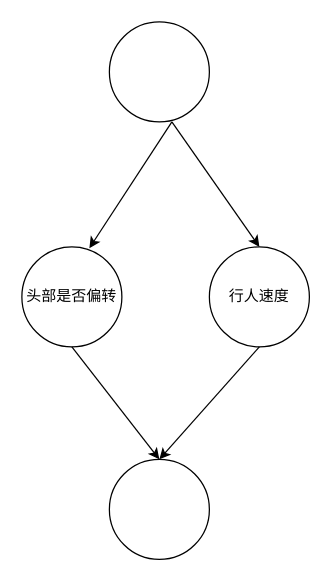
This 331x581 diagram has some shape labels left out. The shapes that lost their labels are listed below. From the top down, each one's centre as x and y in pixels, then its label:
At point 158,71: "行人距车辆的距离".
At point 158,508: "是否穿越街道".
